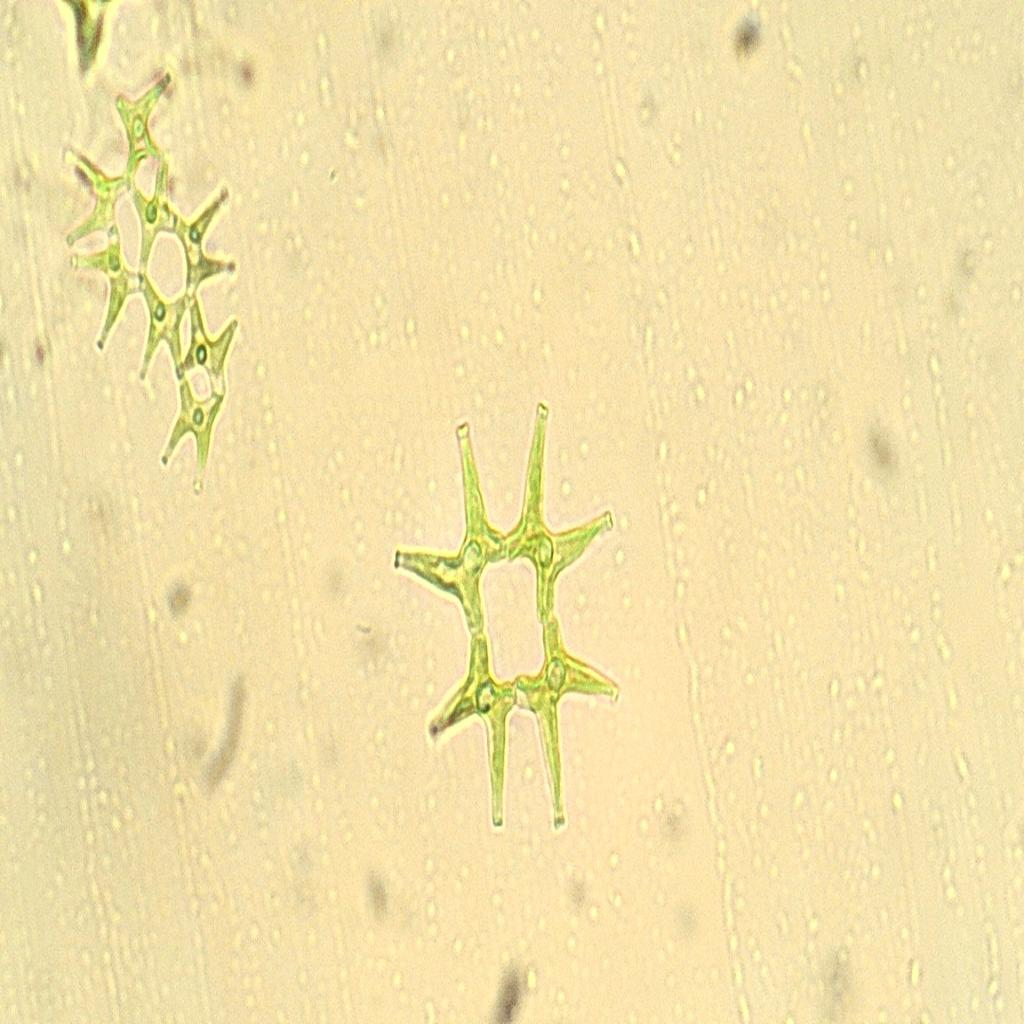Pediastrum_10: (369, 376, 653, 857)
